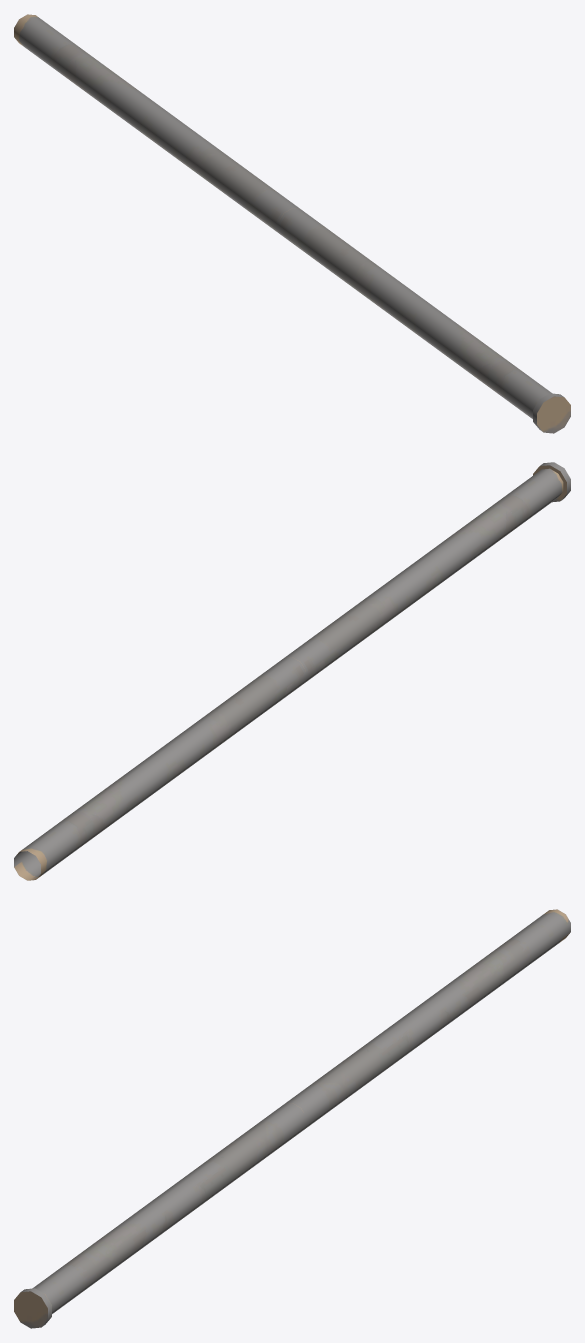
File: props_mining_ceiling_pipe_256_thick.glb
The picture shows the model from 3 angles, top to bottom: view 1: azimuth 30°, elevation 25°; view 2: azimuth 150°, elevation 25°; view 3: azimuth 330°, elevation 25°; orthographic projection.
Parts seen in each view (by area): view 1: models/props_mining/ceiling_pipe_256_thick; view 2: models/props_mining/ceiling_pipe_256_thick; view 3: models/props_mining/ceiling_pipe_256_thick.
Boxes of the visible parts, bbox=[...] form: models/props_mining/ceiling_pipe_256_thick: bbox=[14, 14, 570, 433]; models/props_mining/ceiling_pipe_256_thick: bbox=[14, 462, 570, 880]; models/props_mining/ceiling_pipe_256_thick: bbox=[14, 909, 570, 1328].
Size of the model in its own units: 9.51 by 10 by 256.
Materials: 1 (1 with a texture image).
